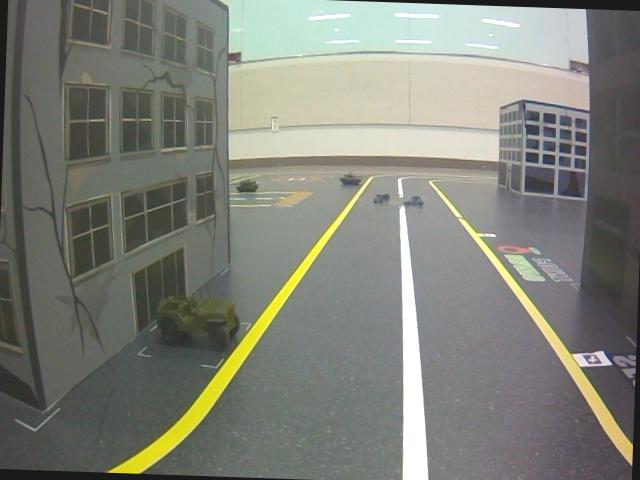Car: (150, 285, 244, 352)
Tank: (236, 178, 262, 198), (338, 170, 364, 189)
